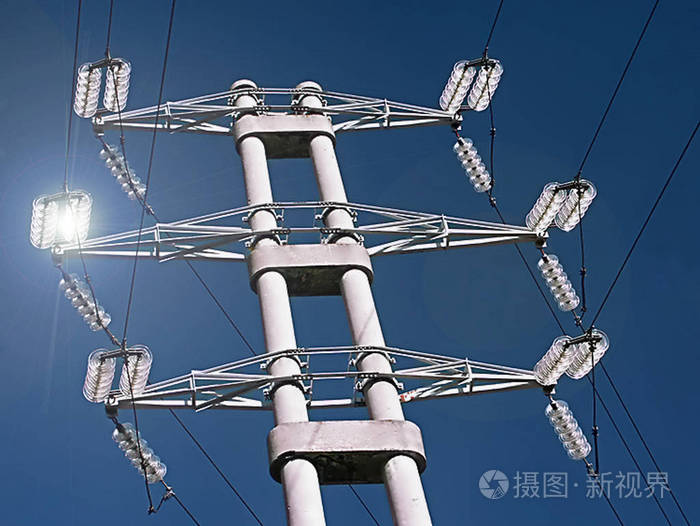insulator: (114, 423, 167, 484), (60, 273, 111, 334), (545, 401, 592, 459), (98, 144, 144, 201), (538, 255, 580, 312), (453, 137, 494, 195), (554, 182, 599, 233), (526, 180, 568, 231), (536, 336, 578, 386), (83, 348, 118, 404), (569, 331, 609, 379), (119, 343, 152, 397), (467, 61, 502, 111), (442, 60, 475, 113), (29, 195, 59, 248), (70, 64, 99, 118), (64, 189, 91, 246), (103, 58, 132, 109)
